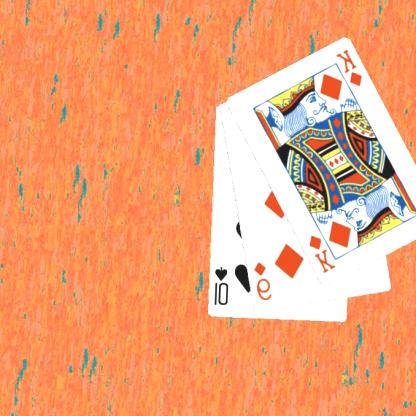10S: (212, 264, 232, 307)
6D: (253, 259, 275, 302)
KD: (307, 232, 339, 275), (334, 46, 365, 88)
